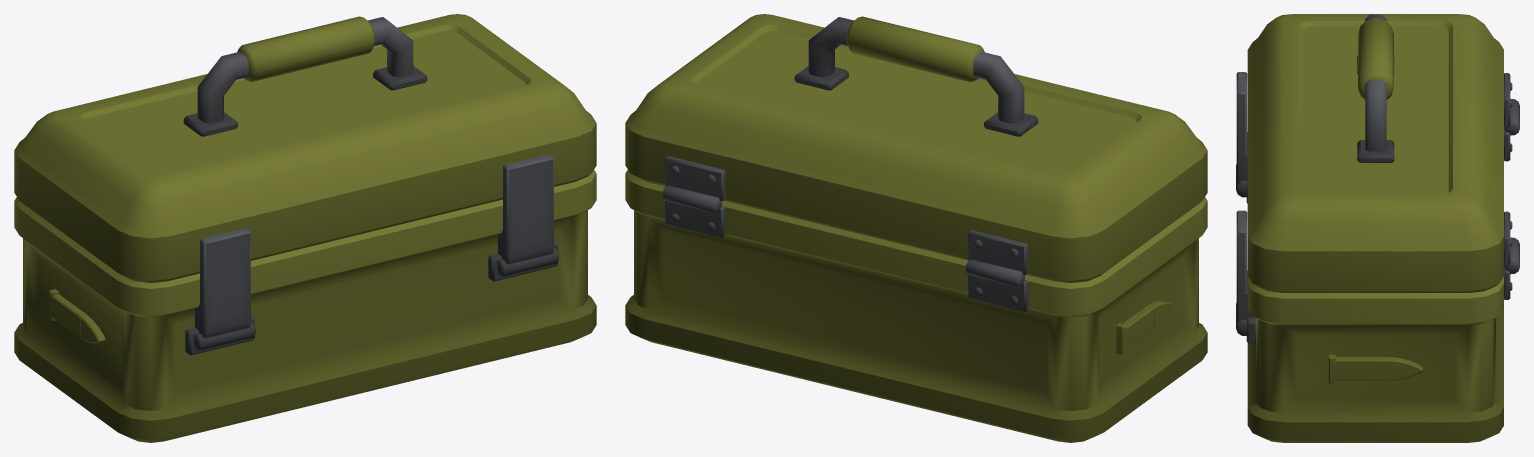
Rendered from ammo_box.glb.
The picture shows the model from 3 angles, left to right: view 1: azimuth 30°, elevation 25°; view 2: azimuth 150°, elevation 25°; view 3: azimuth 270°, elevation 25°; orthographic projection. The views are drawn at different scales.
Parts seen in each view (by area): view 1: ammo_box_lid, ammo_box_body, ammo_box_handle, ammo_box_latch_left, ammo_box_latch_right; view 2: ammo_box_lid, ammo_box_body, ammo_box_handle, ammo_box_hinges; view 3: ammo_box_lid, ammo_box_body, ammo_box_handle, ammo_box_latch_right, ammo_box_latch_left, ammo_box_hinges.
Part boxes in pixels (x1,y1,x2,y2): ammo_box_lid: (14, 14, 596, 282); ammo_box_body: (14, 170, 596, 442); ammo_box_handle: (183, 16, 427, 136); ammo_box_latch_left: (185, 228, 255, 355); ammo_box_latch_right: (488, 154, 558, 281); ammo_box_lid: (625, 14, 1207, 282); ammo_box_body: (625, 170, 1207, 442); ammo_box_handle: (794, 16, 1038, 136); ammo_box_hinges: (662, 185, 1028, 311); ammo_box_lid: (1247, 14, 1512, 292); ammo_box_body: (1247, 276, 1503, 442); ammo_box_handle: (1357, 14, 1394, 162); ammo_box_latch_right: (1236, 210, 1255, 343); ammo_box_latch_left: (1236, 72, 1247, 203); ammo_box_hinges: (1504, 99, 1519, 299).
Bounding box in the file's own units: 0.5 × 0.3175 × 0.277.
